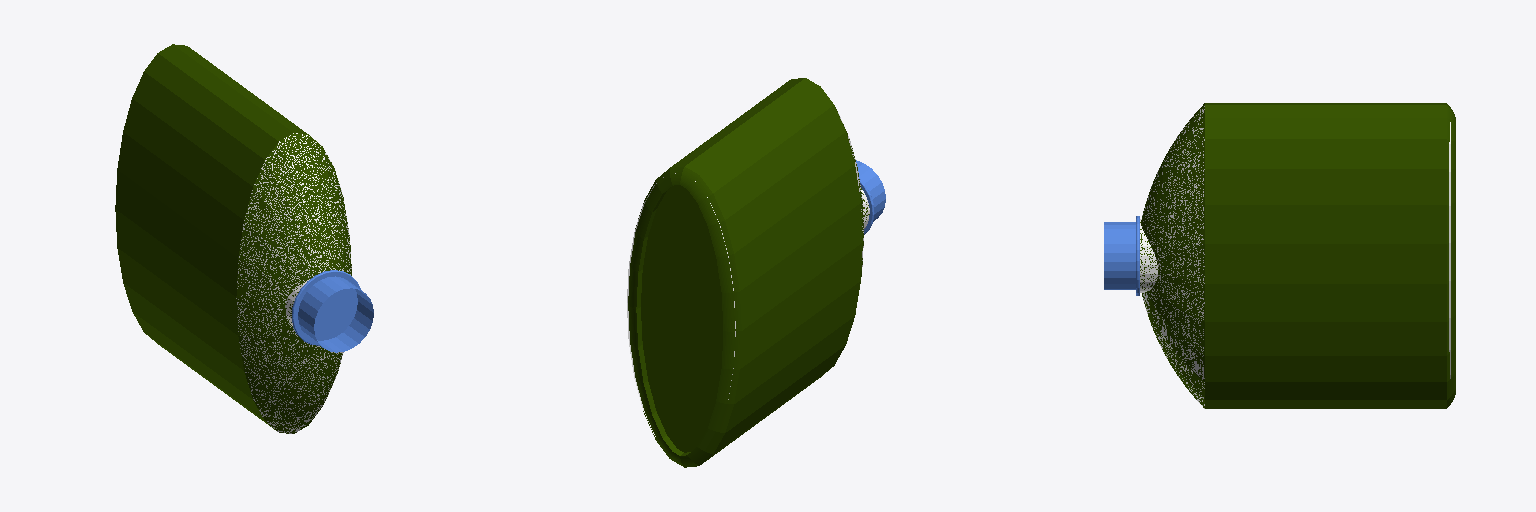
File: model_align.obj
3 renders of one model, left to right at view 1: azimuth 30°, elevation 25°; view 2: azimuth 150°, elevation 25°; view 3: azimuth 270°, elevation 25°, orthographic.
Bounding box in the file's own units: 0.0465 × 0.1169 × 0.1239.